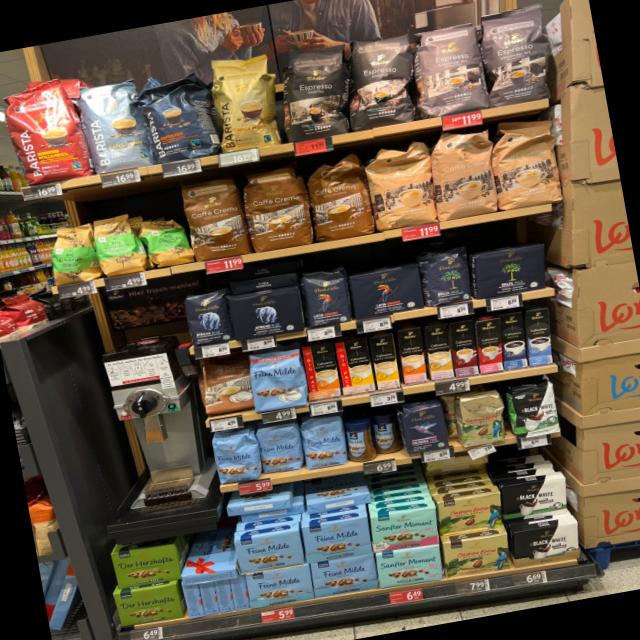AB Bohne: (181, 288, 234, 348)
AB Gemahlen: (226, 284, 306, 342)
Athiopien Bohne: (44, 218, 100, 287), (91, 210, 146, 278), (135, 210, 195, 270)
BM Bohne: (418, 242, 476, 308)
BM Gemahlen: (470, 242, 553, 300)
BW Bohne: (507, 382, 562, 441)
BW Gemahlen: (498, 474, 572, 520)
Barista CB: (204, 48, 284, 156)
Barista CC: (74, 75, 152, 176)
Barista Espresso: (133, 64, 220, 168)
Barista Kolumbien: (0, 74, 92, 189)
C Fino Bohne: (401, 402, 450, 456)
CC Mild: (491, 111, 567, 212), (361, 138, 442, 232), (426, 124, 504, 220)
CC Vollmundig: (197, 354, 256, 416)
Colombia BB Bohne: (455, 389, 509, 448)
Colombia BB Gemahlen: (440, 530, 512, 580), (435, 489, 507, 538)
Espresso M Art: (474, 0, 560, 107), (410, 18, 490, 116)
FM 36 Pads: (246, 344, 308, 414)
FM Bohne: (252, 420, 306, 476), (209, 430, 261, 486), (298, 414, 349, 470)
FM Gemahlen: (300, 514, 374, 564), (232, 526, 306, 574), (244, 562, 314, 609), (310, 552, 379, 597)
FM Instant: (342, 416, 378, 464), (368, 408, 404, 456)
Herzhatfe Mundig: (109, 540, 181, 590), (112, 582, 183, 629)
LG Bohne: (300, 263, 354, 328)
LG Gemahlen: (346, 262, 427, 320)
SM Gemahlen: (374, 540, 446, 590), (370, 503, 442, 553)
Simo CCMild: (334, 336, 374, 394)
Simo CCMild bigpack: (368, 333, 401, 390)
Simo CCVollmundig: (300, 342, 342, 399)
Simo CCVollmundig bigpack: (238, 162, 316, 255), (300, 150, 374, 242), (178, 173, 250, 263), (396, 325, 430, 384)
Simo Decaff: (423, 322, 455, 381)
Simo Es Brazil: (475, 317, 504, 374)
Simo Es Caramel: (449, 319, 479, 377)
Simo Es Kraft: (498, 311, 529, 370)
Simo Es Vanilla: (525, 306, 554, 367)
